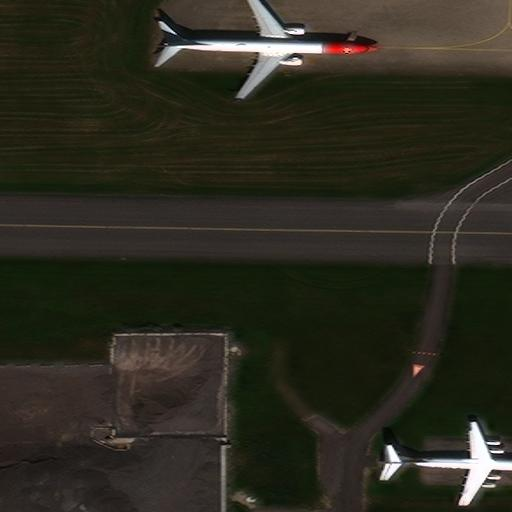Medium Civil Transport: (158, 0, 377, 100), (378, 419, 512, 506)
